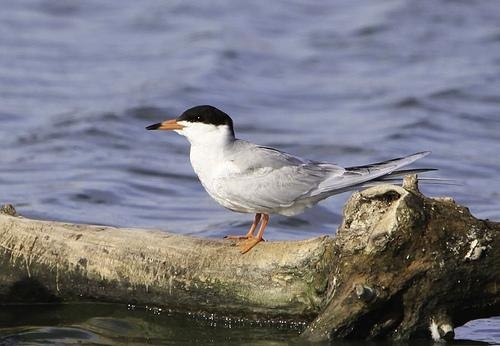bird: (145, 103, 437, 254)
